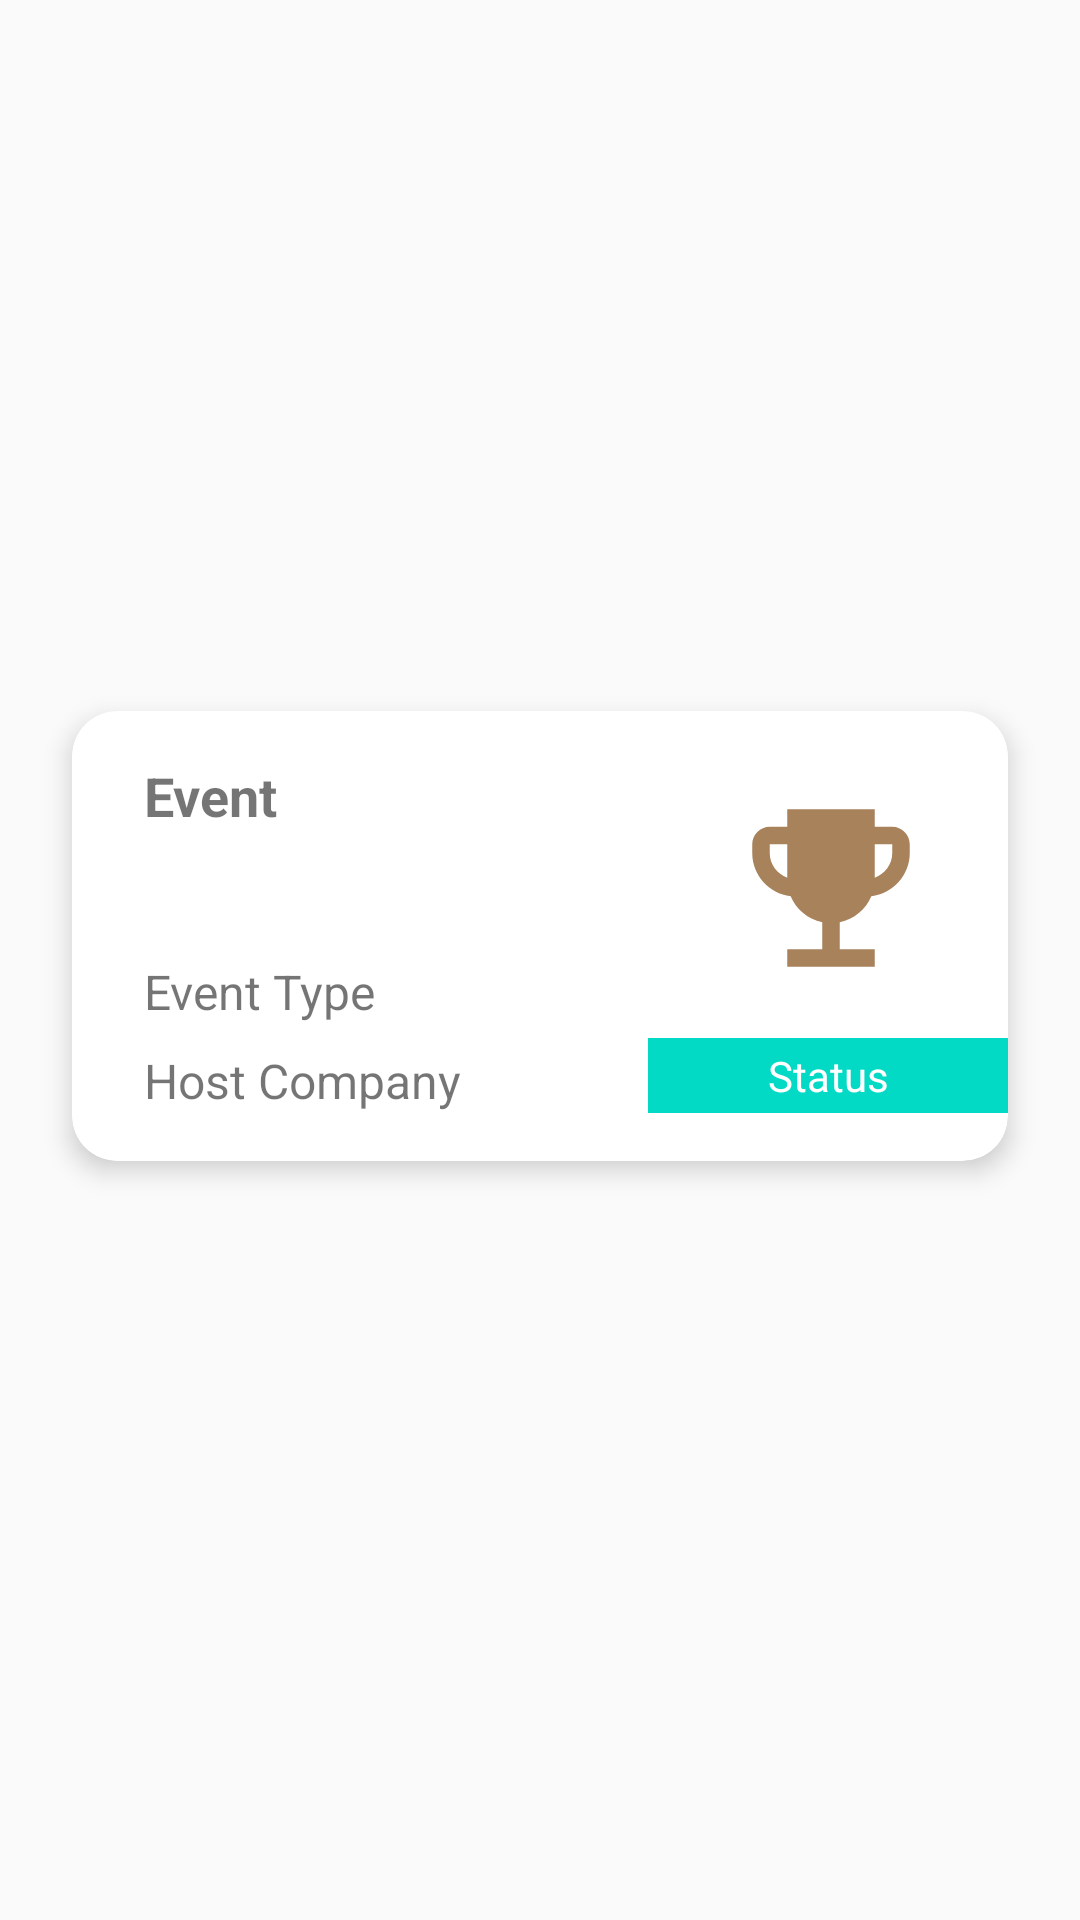

Screen size 1080 × 1920. Icon name, then its center in pixels as (x,y):
emoji events: (831,888)
